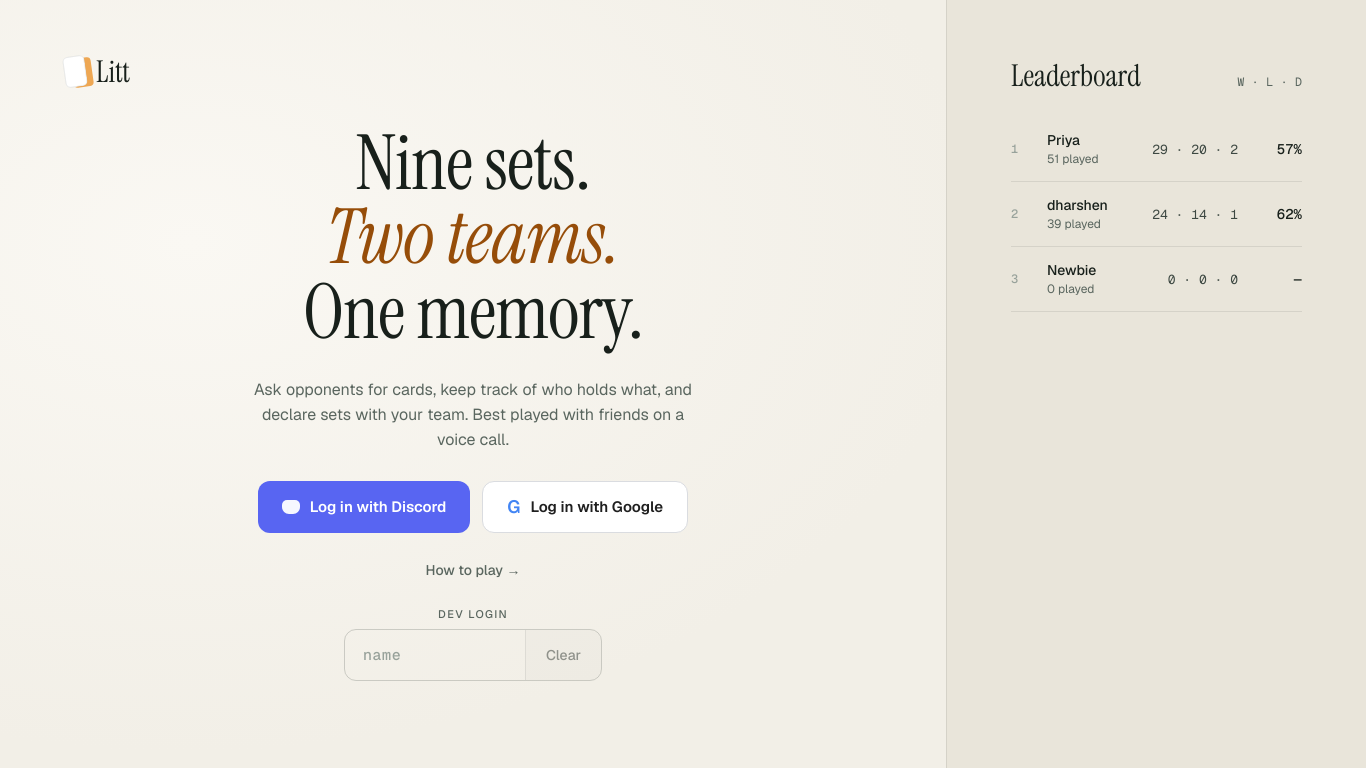
Test: Home: dev login (dev builds only) › shows an error instead of silently failing when the server is unreachable
This screenshot has width=1366, height=768.
Expected: the link "Log in with Discord" is shown, [258,481,470,533]
Type "alice" into the field named "Dev login name".
click(435, 655); type("alice")  # box [345,630,525,680]
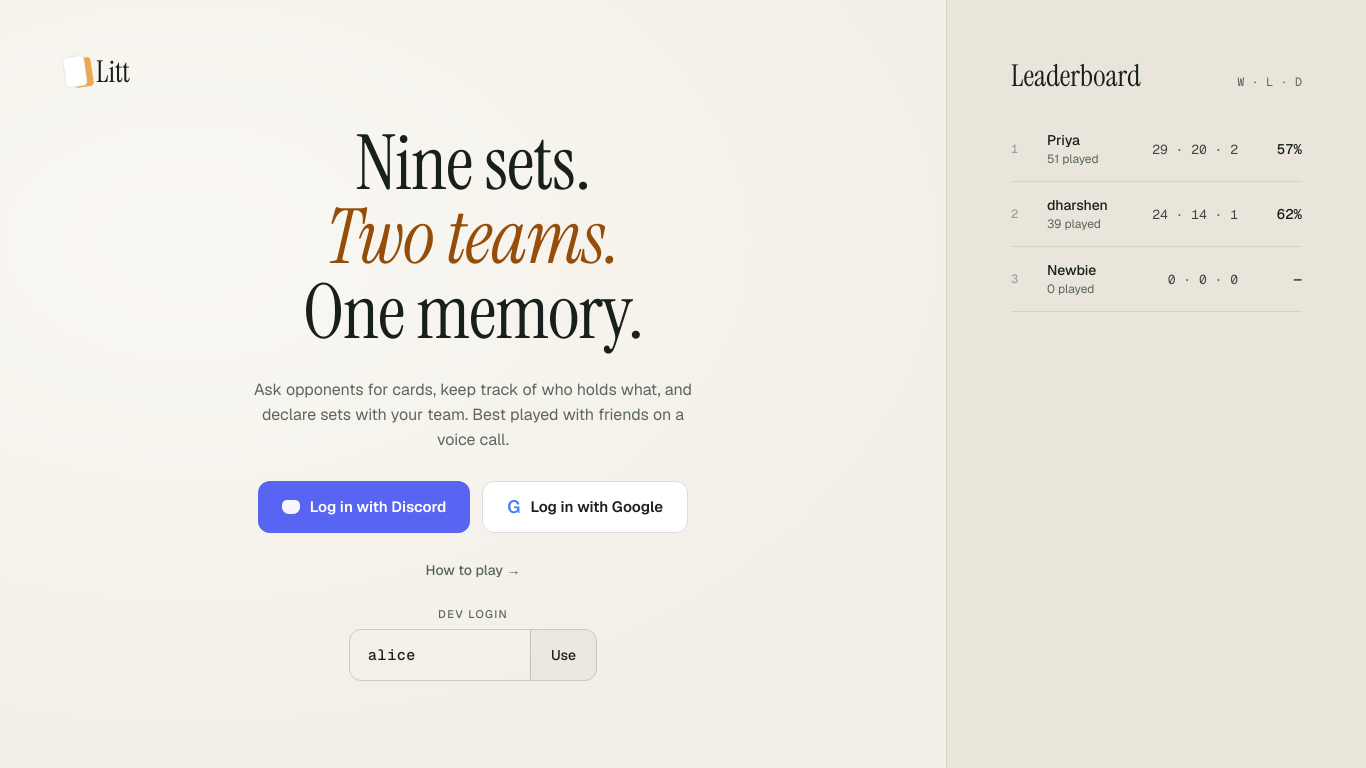
Click the button "Use".
click(563, 655)  # box [530,630,596,680]
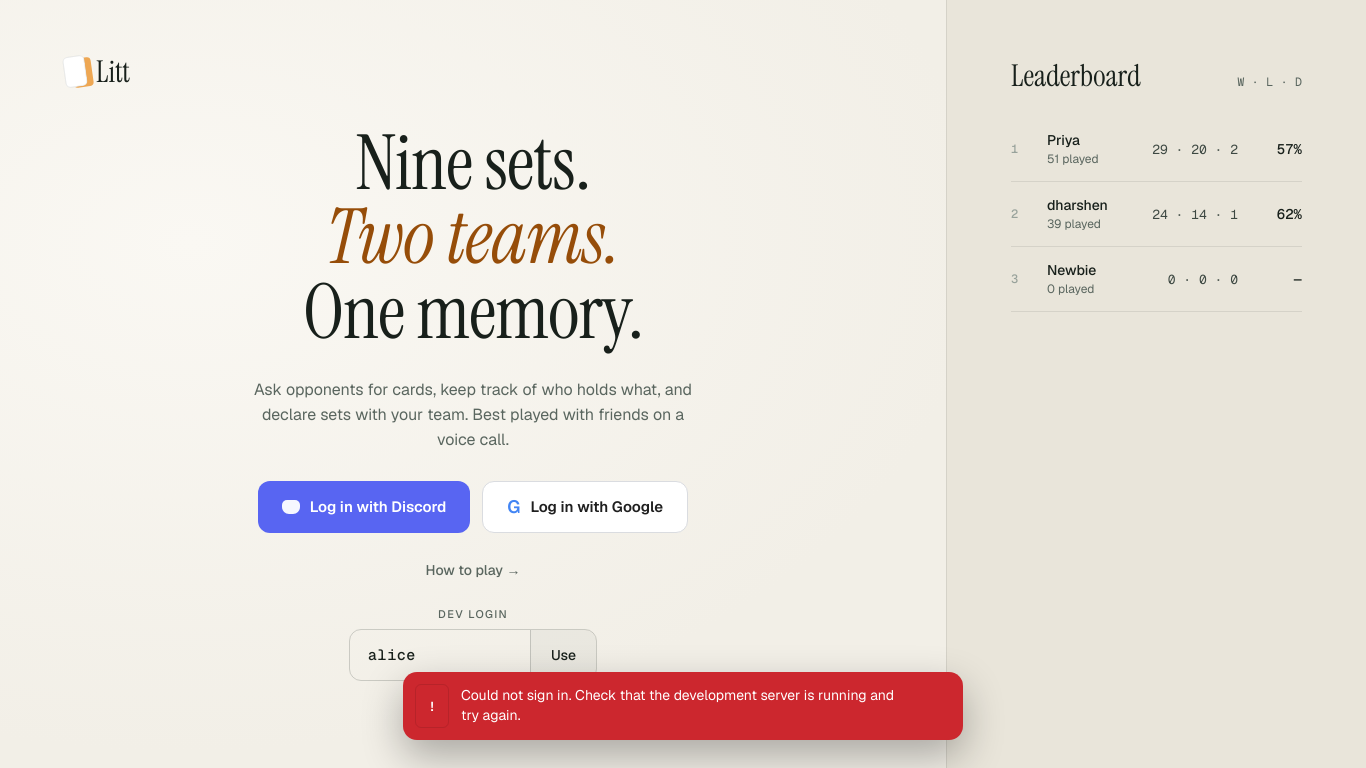
Expected: the text "Could not sign in. Check that the development server is running and try again." is shown, [461,686,947,726]
